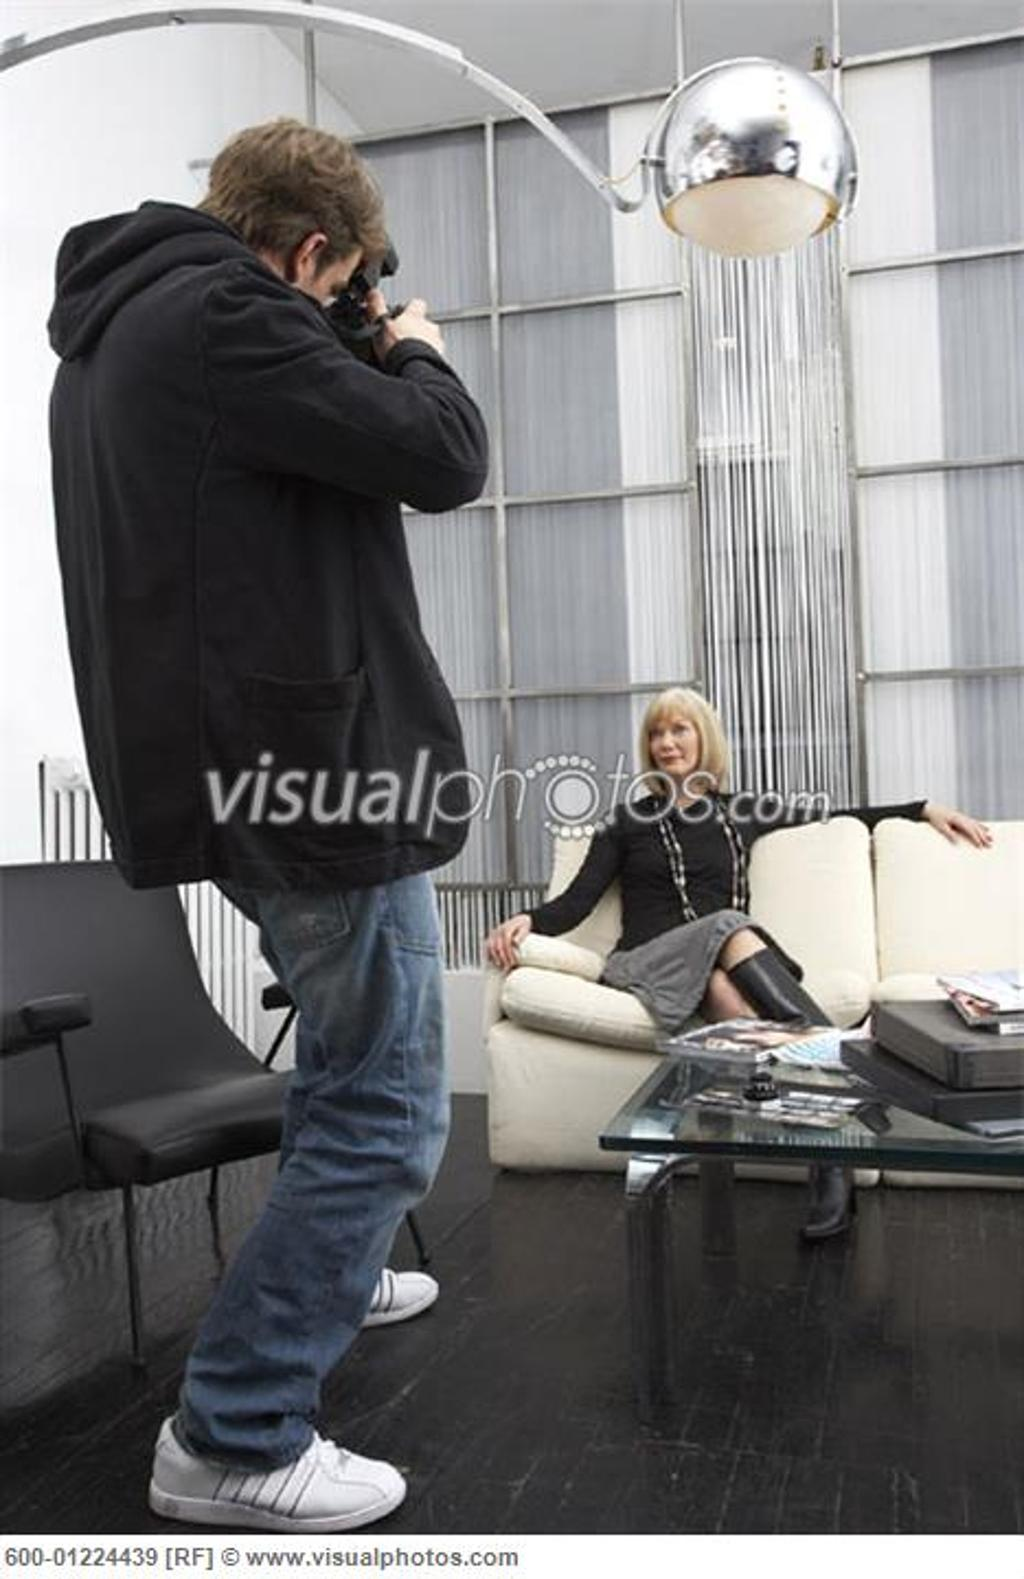face: (297, 224, 364, 321), (650, 710, 698, 775)
